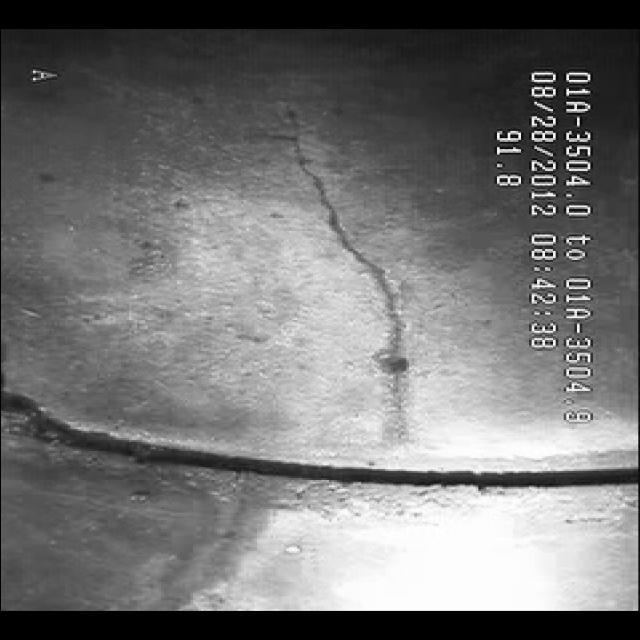Crack: (258, 110, 448, 448)
